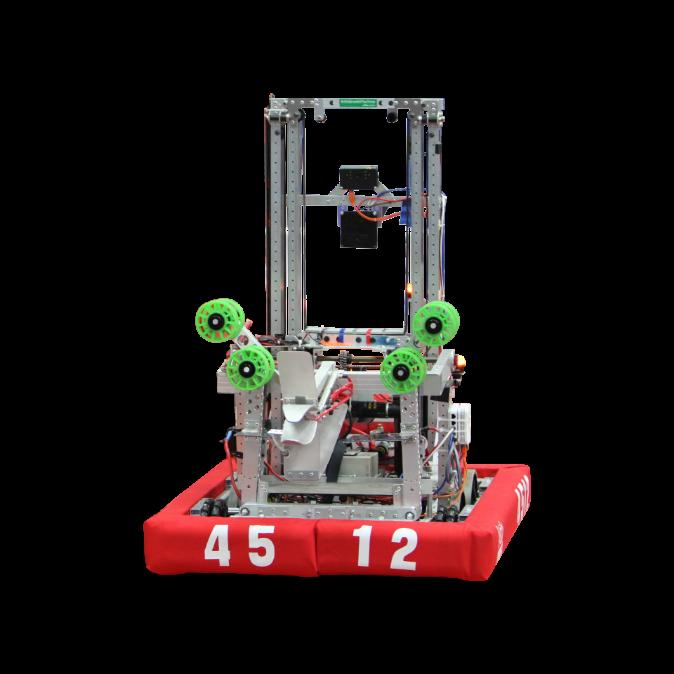robot: (139, 90, 532, 583)
